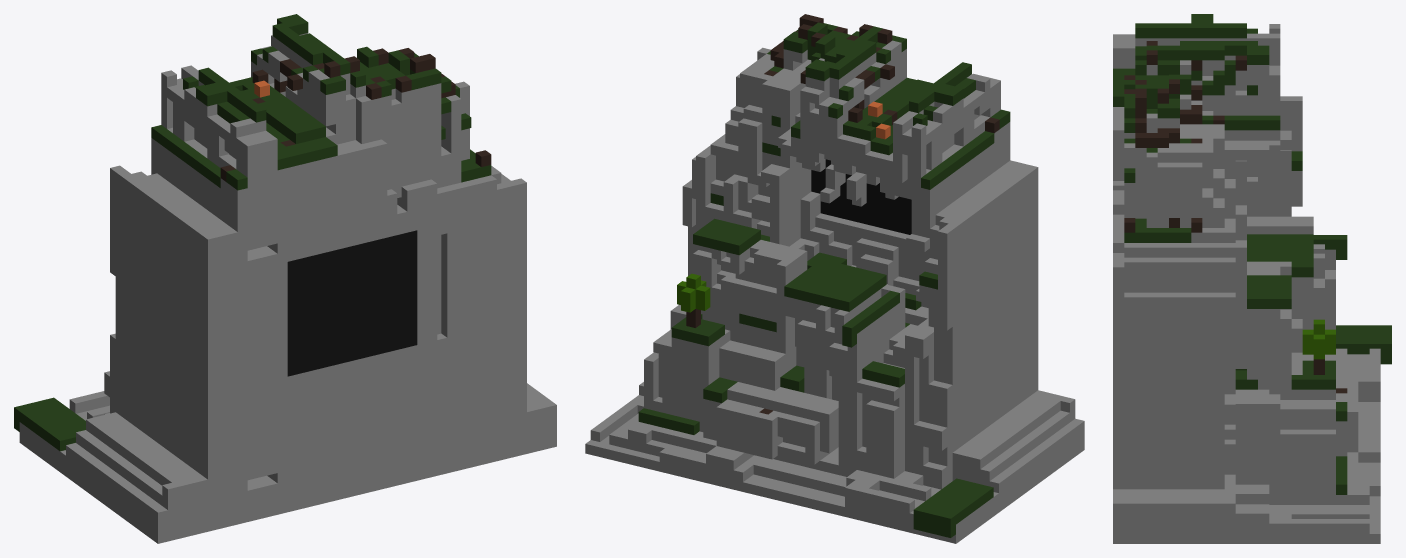
Rendered from Mountain2.obj.
3 renders of one model, left to right at view 1: azimuth 30°, elevation 25°; view 2: azimuth 150°, elevation 25°; view 3: azimuth 270°, elevation 25°, orthographic. The views are drawn at different scales.
Bounding box in the file's own units: 4 × 4 × 2.5.
Materials: 1 (1 with a texture image).
